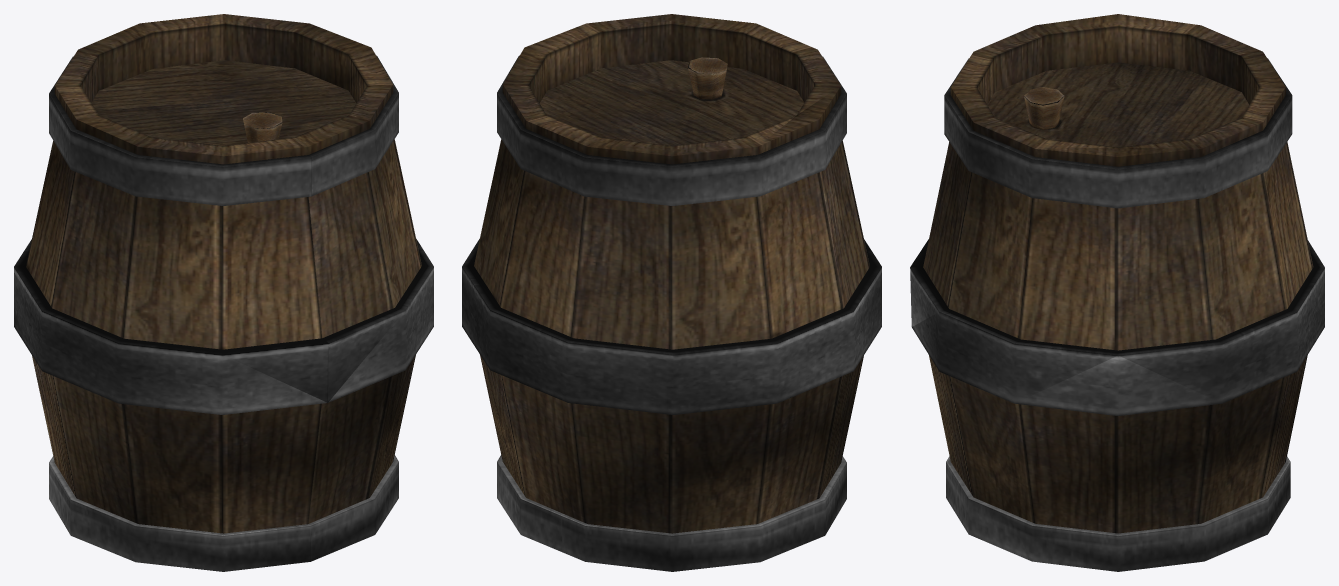
File: ton.obj
3 renders of one model, left to right at view 1: azimuth 30°, elevation 25°; view 2: azimuth 150°, elevation 25°; view 3: azimuth 270°, elevation 25°, orthographic.
Parts seen in each view (by area): view 1: Group; view 2: Group; view 3: Group.
Part boxes in pixels (x1,y1,x2,y2): Group: [14, 14, 433, 571]; Group: [462, 14, 881, 571]; Group: [910, 14, 1324, 571].
Bounding box in the file's own units: 29.87 × 32.55 × 29.57.
Materials: 1 (1 with a texture image).
